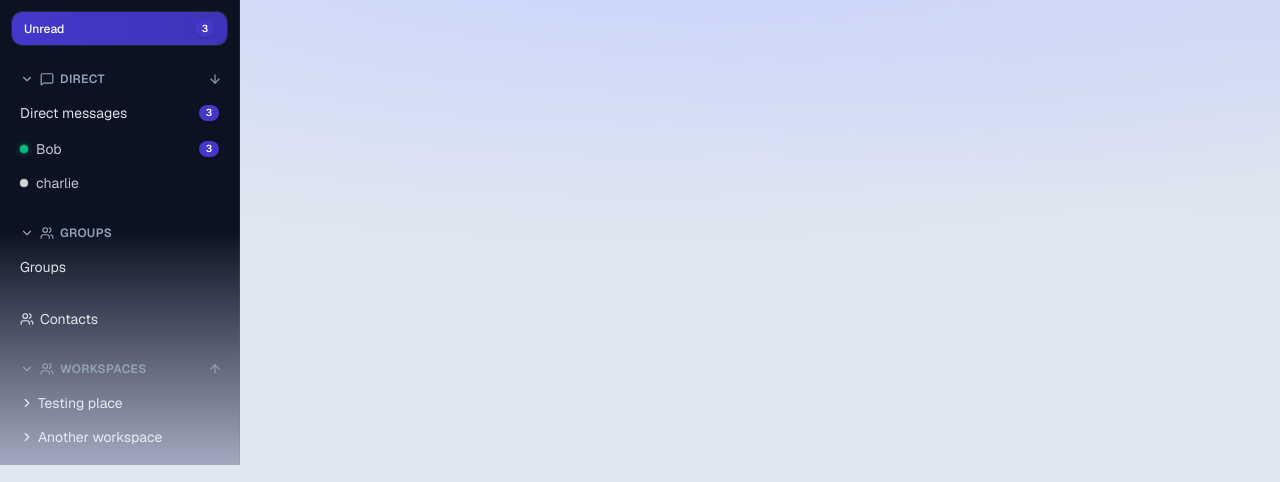
it: Sidebar — Direct section › collapses and expands Direct section
This screenshot has width=1280, height=482.
Expected: the text "Direct messages" is shown, 20,103 -> 127,123
Click the button with test id "sidebar-direct-toggle" at (106, 79), box 12,65 -> 199,93
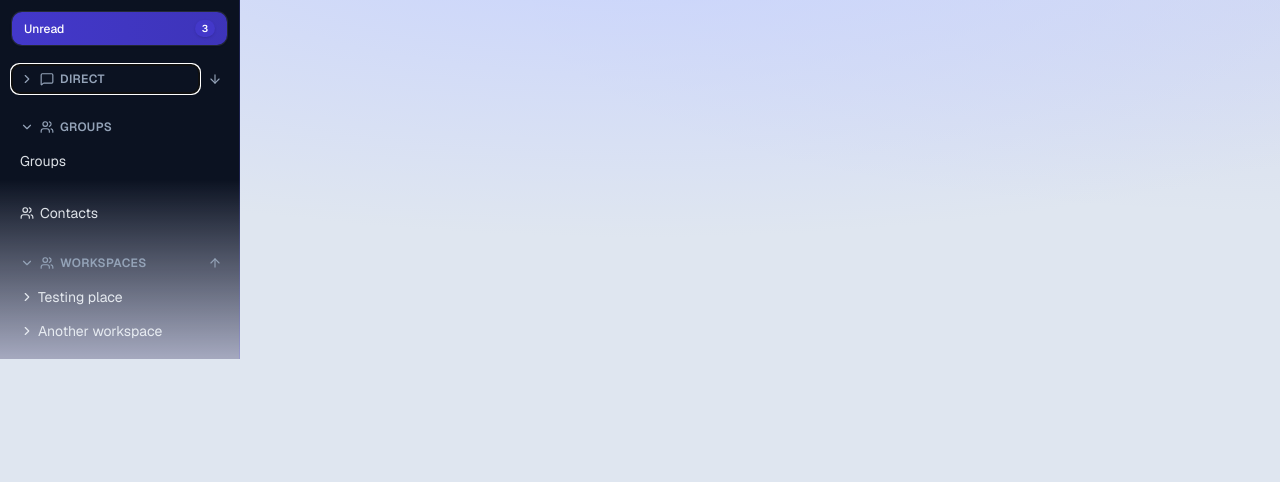
Now the link "Direct messages" is gone
Click the button with test id "sidebar-direct-toggle" at (106, 79), box 12,65 -> 199,93
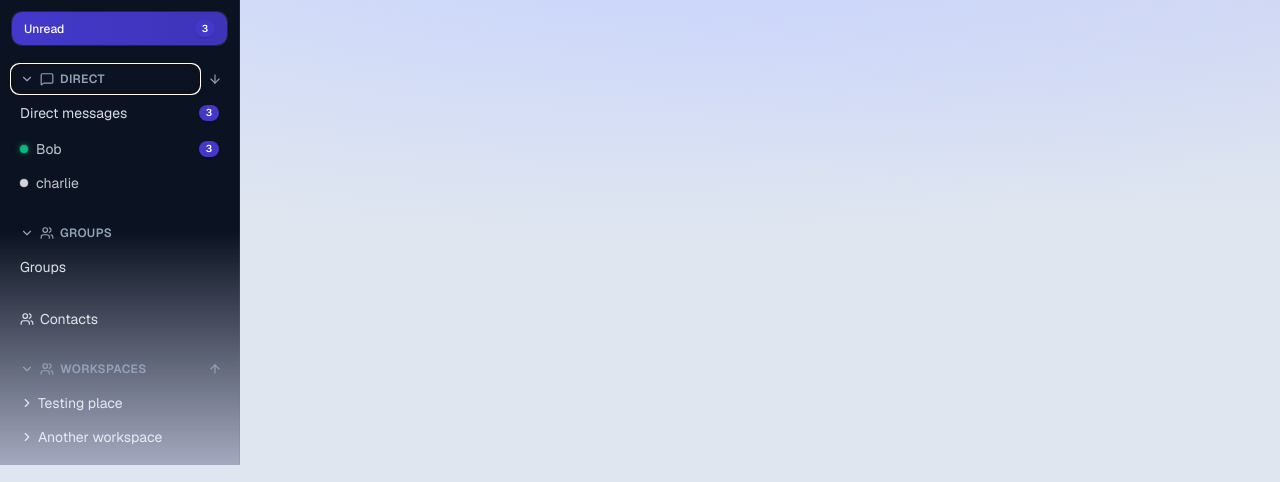
Now the text "Direct messages" is shown, box 20,103 -> 127,123
